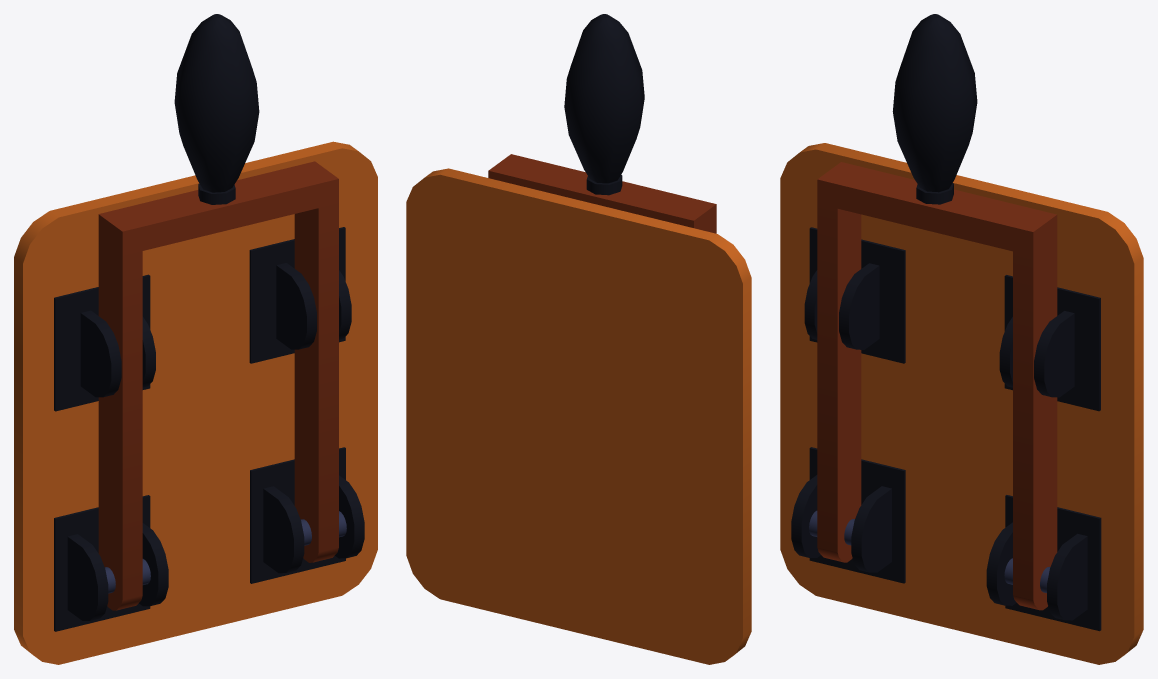
The model's file is Rubilnik.FBX.
3 views of the same model, side by side, from view 1: azimuth 30°, elevation 25°; view 2: azimuth 150°, elevation 25°; view 3: azimuth 330°, elevation 25° (orthographic). The views are drawn at different scales.
Parts seen in each view (by area): view 1: Rubilnik_dwn, Rubilnik_top; view 2: Rubilnik_dwn, Rubilnik_top; view 3: Rubilnik_dwn, Rubilnik_top.
Boxes of the visible parts, <box> form: Rubilnik_dwn: <box>14,141,377,664</box>; Rubilnik_top: <box>98,14,338,610</box>; Rubilnik_dwn: <box>406,168,751,664</box>; Rubilnik_top: <box>488,14,716,233</box>; Rubilnik_dwn: <box>780,143,1143,664</box>; Rubilnik_top: <box>817,14,1057,610</box>.
Size of the model in its own units: 36.01 by 61.03 by 8.87.
